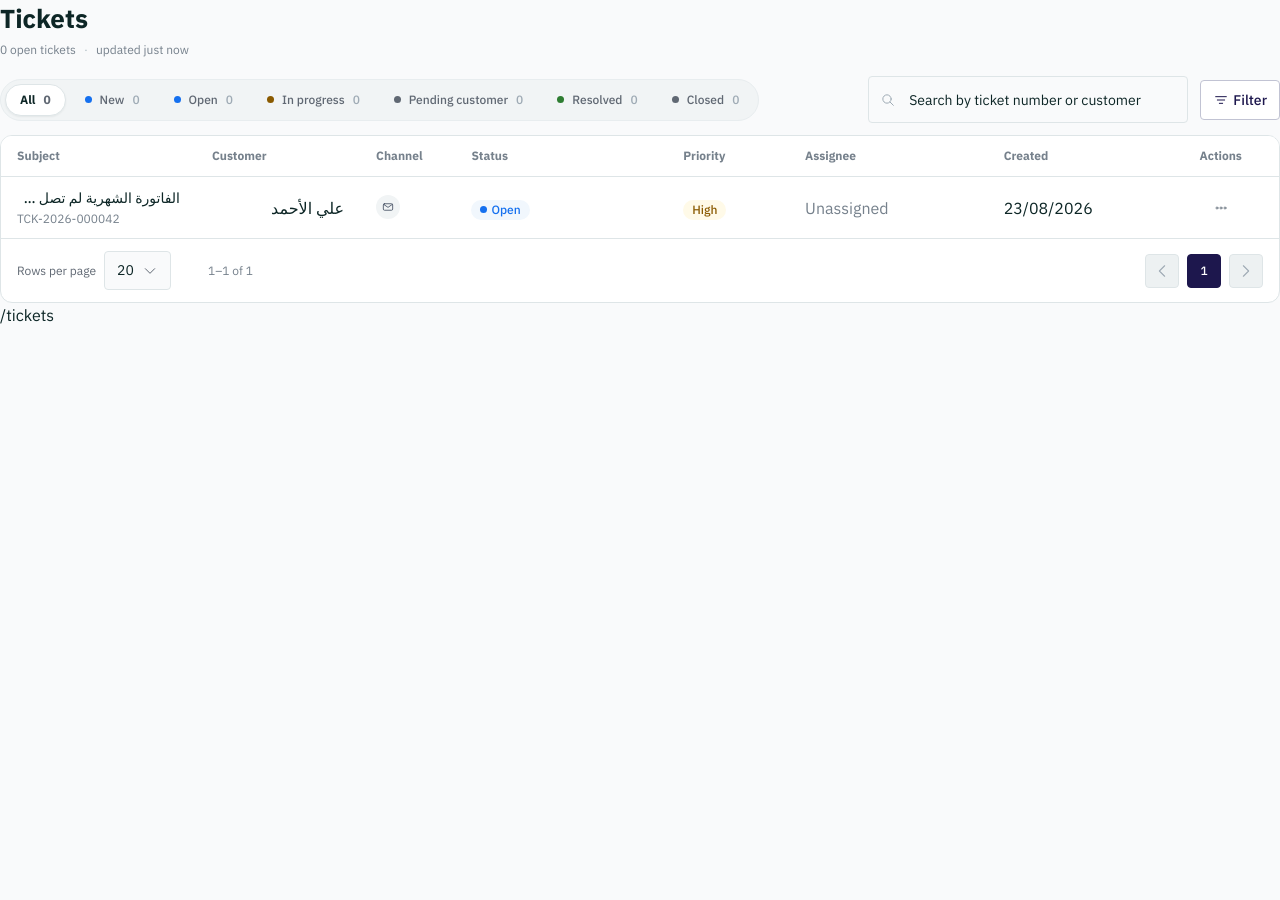
Test: AC-25 / AC-26 / AC-33 — assigning: one write, then the surface goes, then the toast › sends the fetched version and announces the new assignee
Click the button named "Ticket actions" at (1221, 208), box left=1206, top=193, right=1236, bottom=223
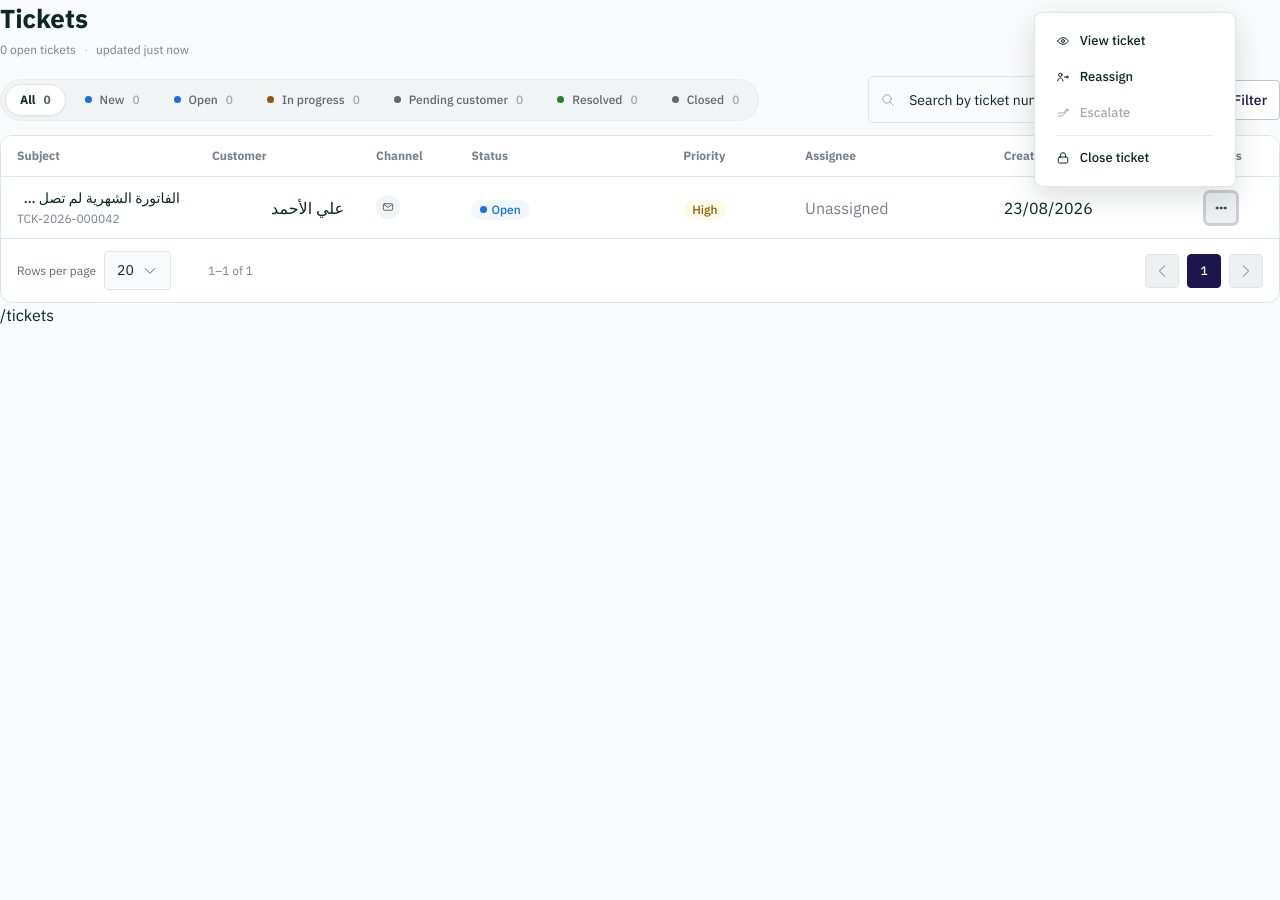
Click the menu item "Reassign" at (1135, 77), box left=1045, top=59, right=1225, bottom=95
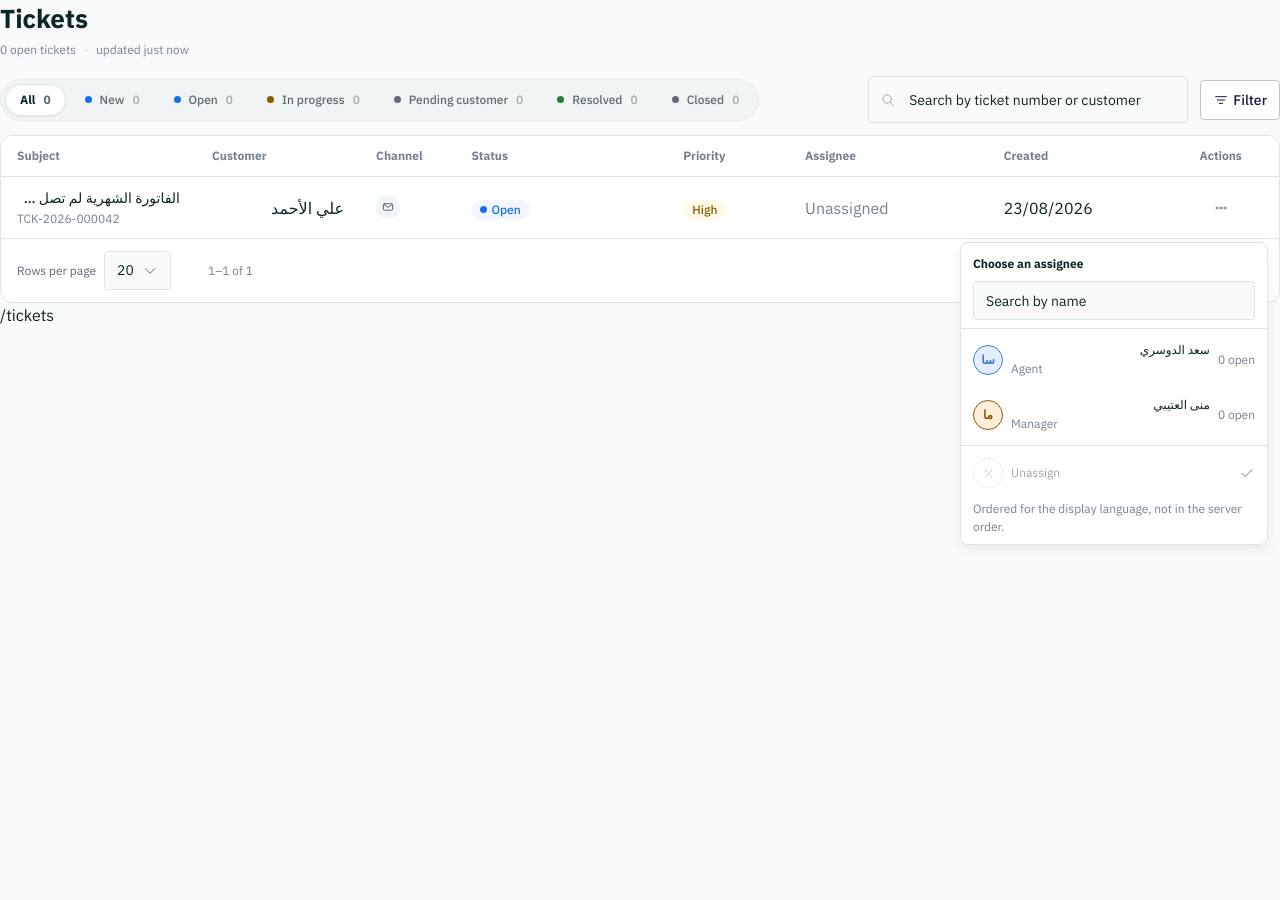
Expected: the button "سا سعد الدوسري Agent 0 open" is enabled
Click the button "سا سعد الدوسري Agent 0 open" at (1175, 350), box left=965, top=334, right=1263, bottom=386
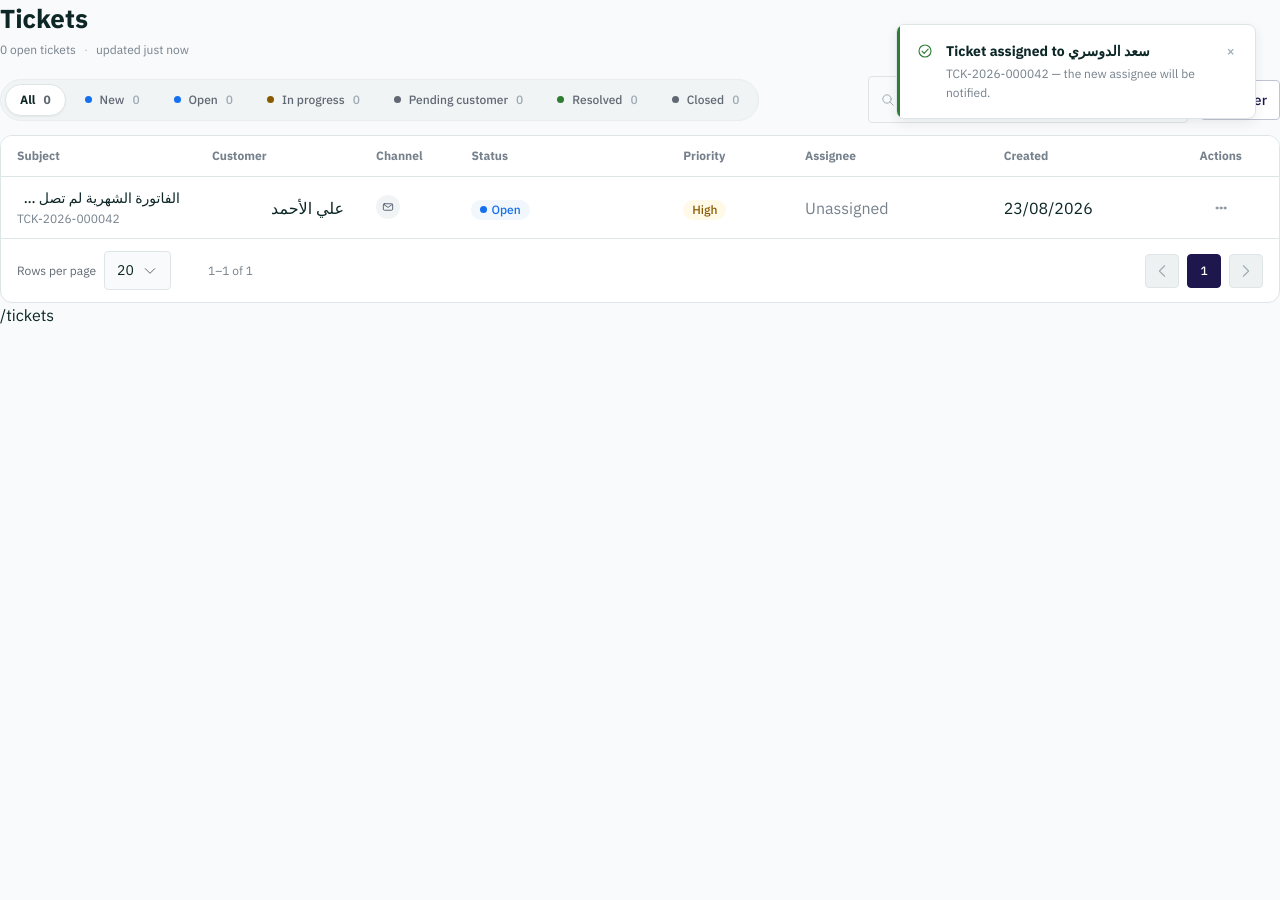
Expected: the message shows "سعد الدوسري", left=946, top=42, right=1150, bottom=60
Expected: the message shows "TCK-2026-000042", left=946, top=66, right=1195, bottom=100
